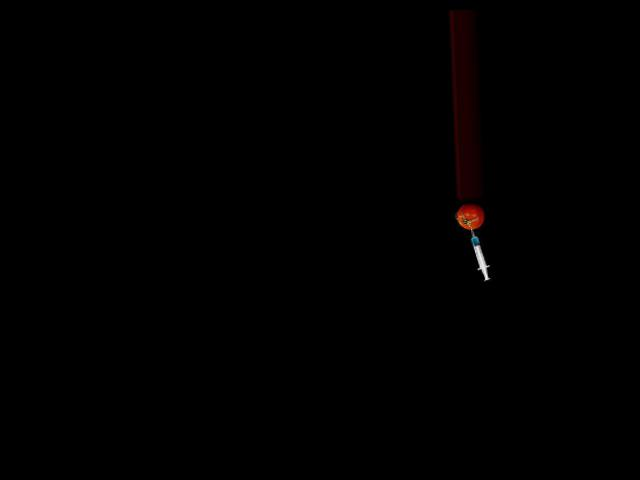tomato: (456, 203, 485, 229)
